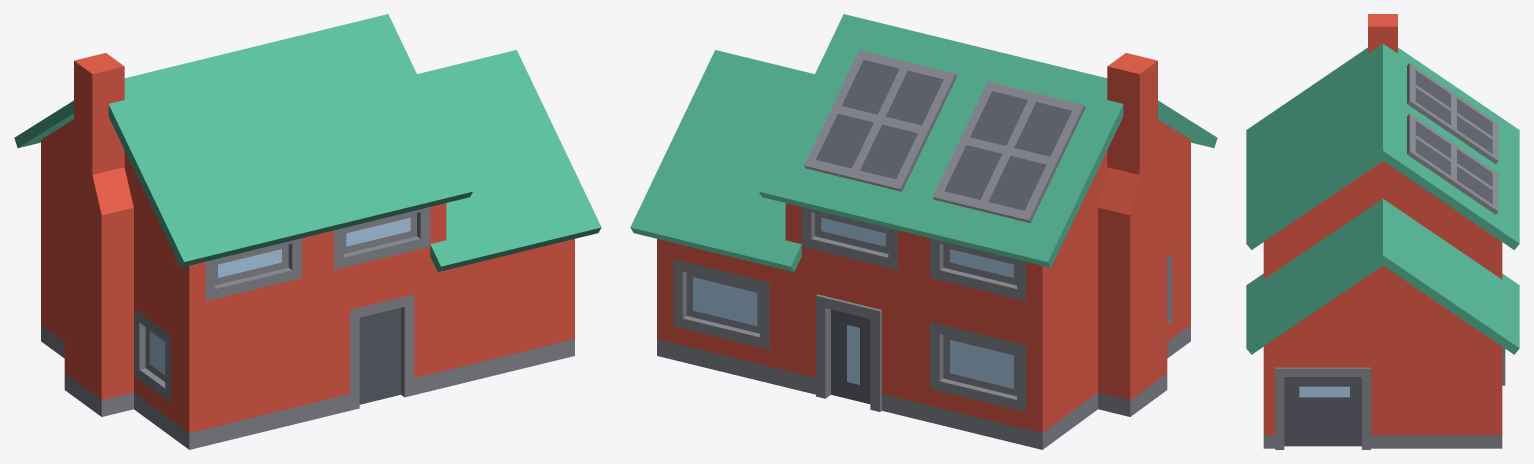
File: house_type13.dae
3 views of the same model, side by side, from view 1: azimuth 30°, elevation 25°; view 2: azimuth 150°, elevation 25°; view 3: azimuth 270°, elevation 25° (orthographic). The views are drawn at different scales.
Parts seen in each view (by area): view 1: house_type13; view 2: house_type13; view 3: house_type13.
Part boxes in pixels (left/top/right/bottom): house_type13: left=14, top=14, right=601, bottom=449; house_type13: left=630, top=14, right=1217, bottom=449; house_type13: left=1246, top=14, right=1519, bottom=449.
Bounding box in the file's own units: 1.35 × 1 × 0.916.
